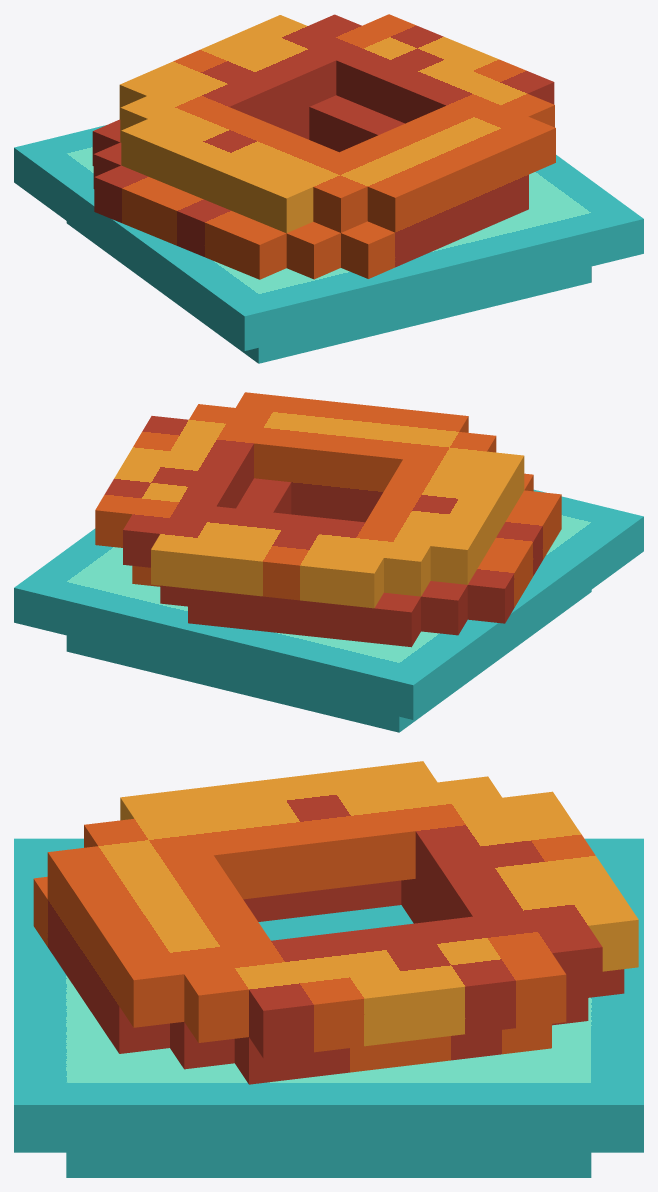
File: PrefabBoost1.fbx
3 views of the same model, one above another, from view 1: azimuth 30°, elevation 25°; view 2: azimuth 150°, elevation 25°; view 3: azimuth 270°, elevation 25° (orthographic). The views are drawn at different scales.
Visible parts, largest first — view 1: PrefabBoost1; view 2: PrefabBoost1; view 3: PrefabBoost1.
Boxes of the visible parts, <box> form: PrefabBoost1: <box>14,14,643,363</box>; PrefabBoost1: <box>14,392,643,732</box>; PrefabBoost1: <box>14,761,643,1177</box>.
Bounding box in the file's own units: 1.22 × 1.2 × 0.4.
